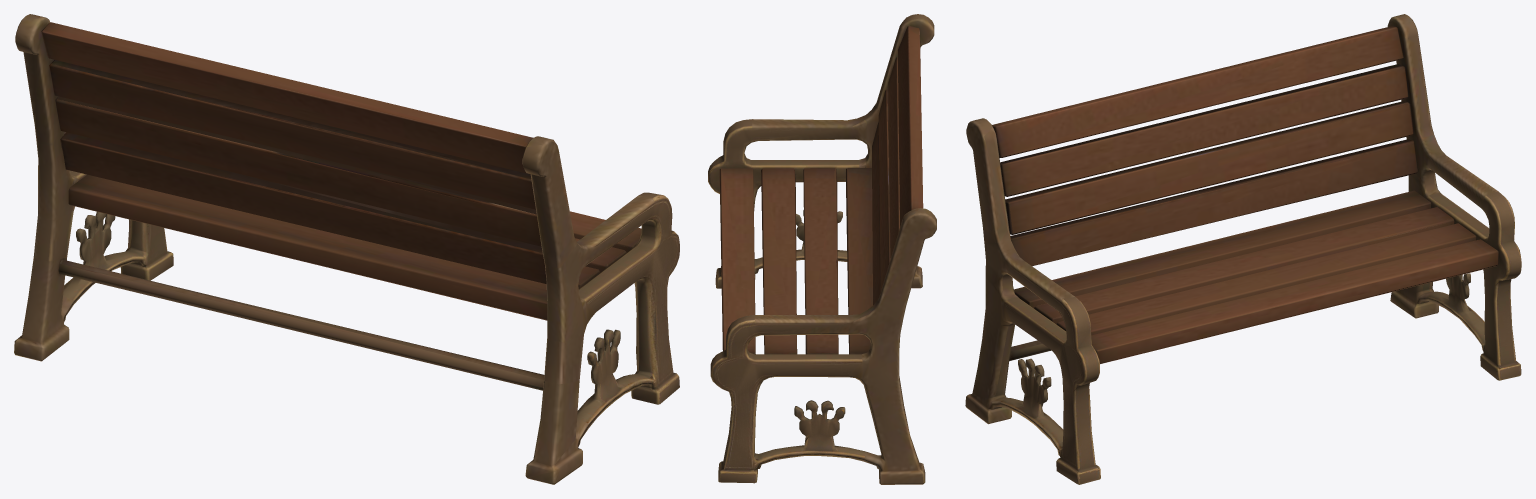
Rendered from campus-bench-scene.glb.
3 renders of one model, left to right at view 1: azimuth 30°, elevation 25°; view 2: azimuth 150°, elevation 25°; view 3: azimuth 270°, elevation 25°, orthographic. The views are drawn at different scales.
Visible parts, largest first — view 1: tripo_node_f893324d-c9d7-42bc-bd0f-d4b60554853b; view 2: tripo_node_f893324d-c9d7-42bc-bd0f-d4b60554853b; view 3: tripo_node_f893324d-c9d7-42bc-bd0f-d4b60554853b.
Part boxes in pixels (left/top/right/bottom): tripo_node_f893324d-c9d7-42bc-bd0f-d4b60554853b: left=14, top=14, right=679, bottom=484; tripo_node_f893324d-c9d7-42bc-bd0f-d4b60554853b: left=708, top=14, right=936, bottom=484; tripo_node_f893324d-c9d7-42bc-bd0f-d4b60554853b: left=965, top=14, right=1521, bottom=484.
Size of the model in its own units: 0.8793 by 0.5996 by 1.06.
Materials: 1 (1 with a texture image).
